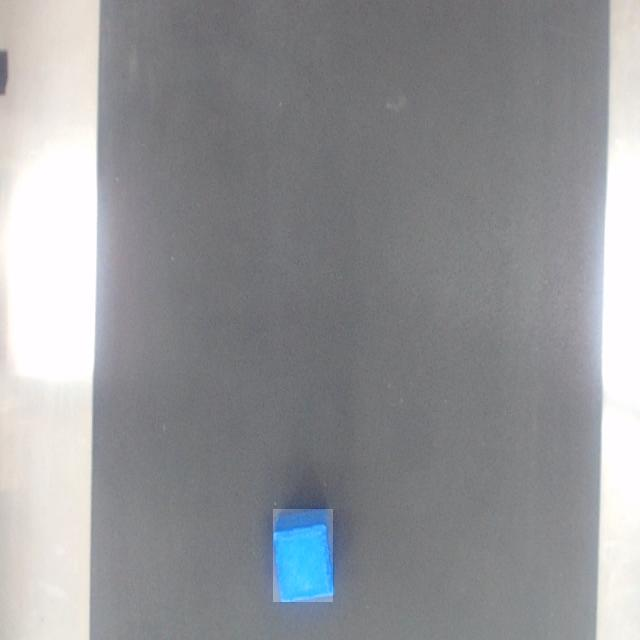Azul: (274, 510, 333, 602)
